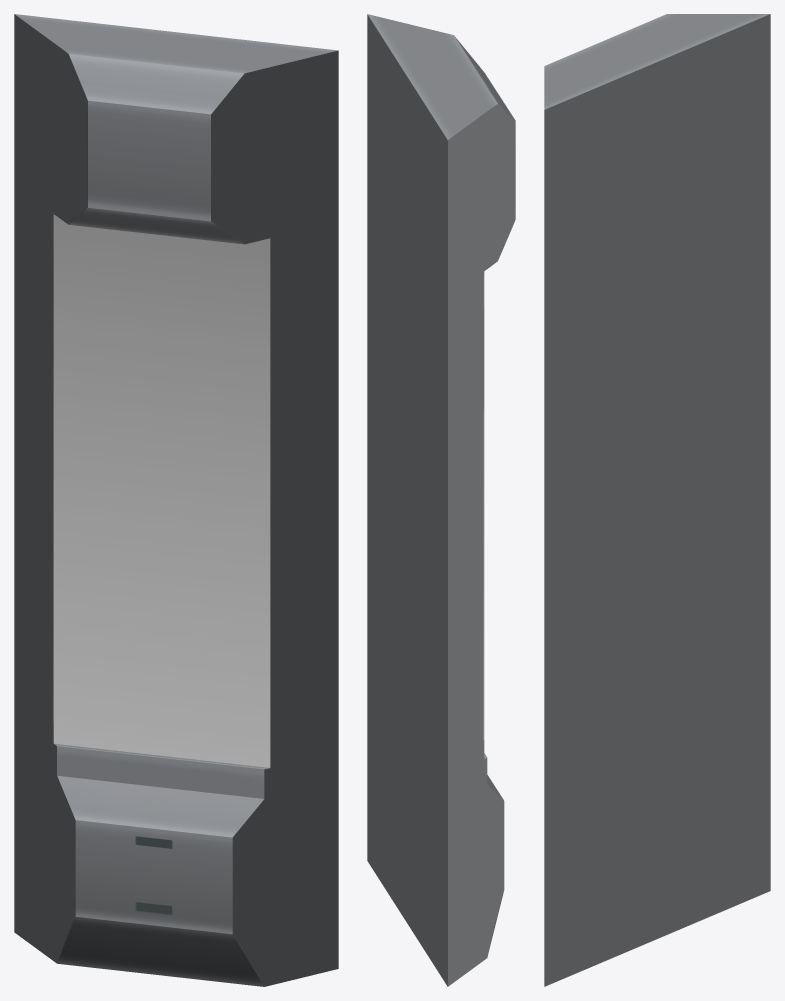
File: SM_Stage1_Wall_corner.fbx
The picture shows the model from 3 angles, left to right: view 1: azimuth 30°, elevation 25°; view 2: azimuth 150°, elevation 25°; view 3: azimuth 270°, elevation 25°; orthographic projection. The views are drawn at different scales.
Parts seen in each view (by area): view 1: SM_Stage1_Wall_Corner; view 2: SM_Stage1_Wall_Corner; view 3: SM_Stage1_Wall_Corner.
Part boxes in pixels (bbox=[...]): SM_Stage1_Wall_Corner: bbox=[14, 14, 338, 986]; SM_Stage1_Wall_Corner: bbox=[367, 14, 515, 986]; SM_Stage1_Wall_Corner: bbox=[544, 14, 770, 986].
Size of the model in its own units: 65.69 by 280 by 65.47.
1 material, 1 textured.
